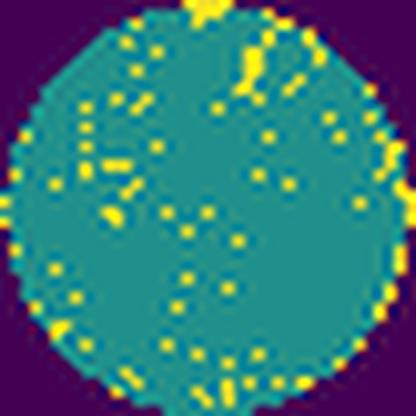Edge-Loc: (182, 0, 234, 31), (390, 178, 415, 222)
